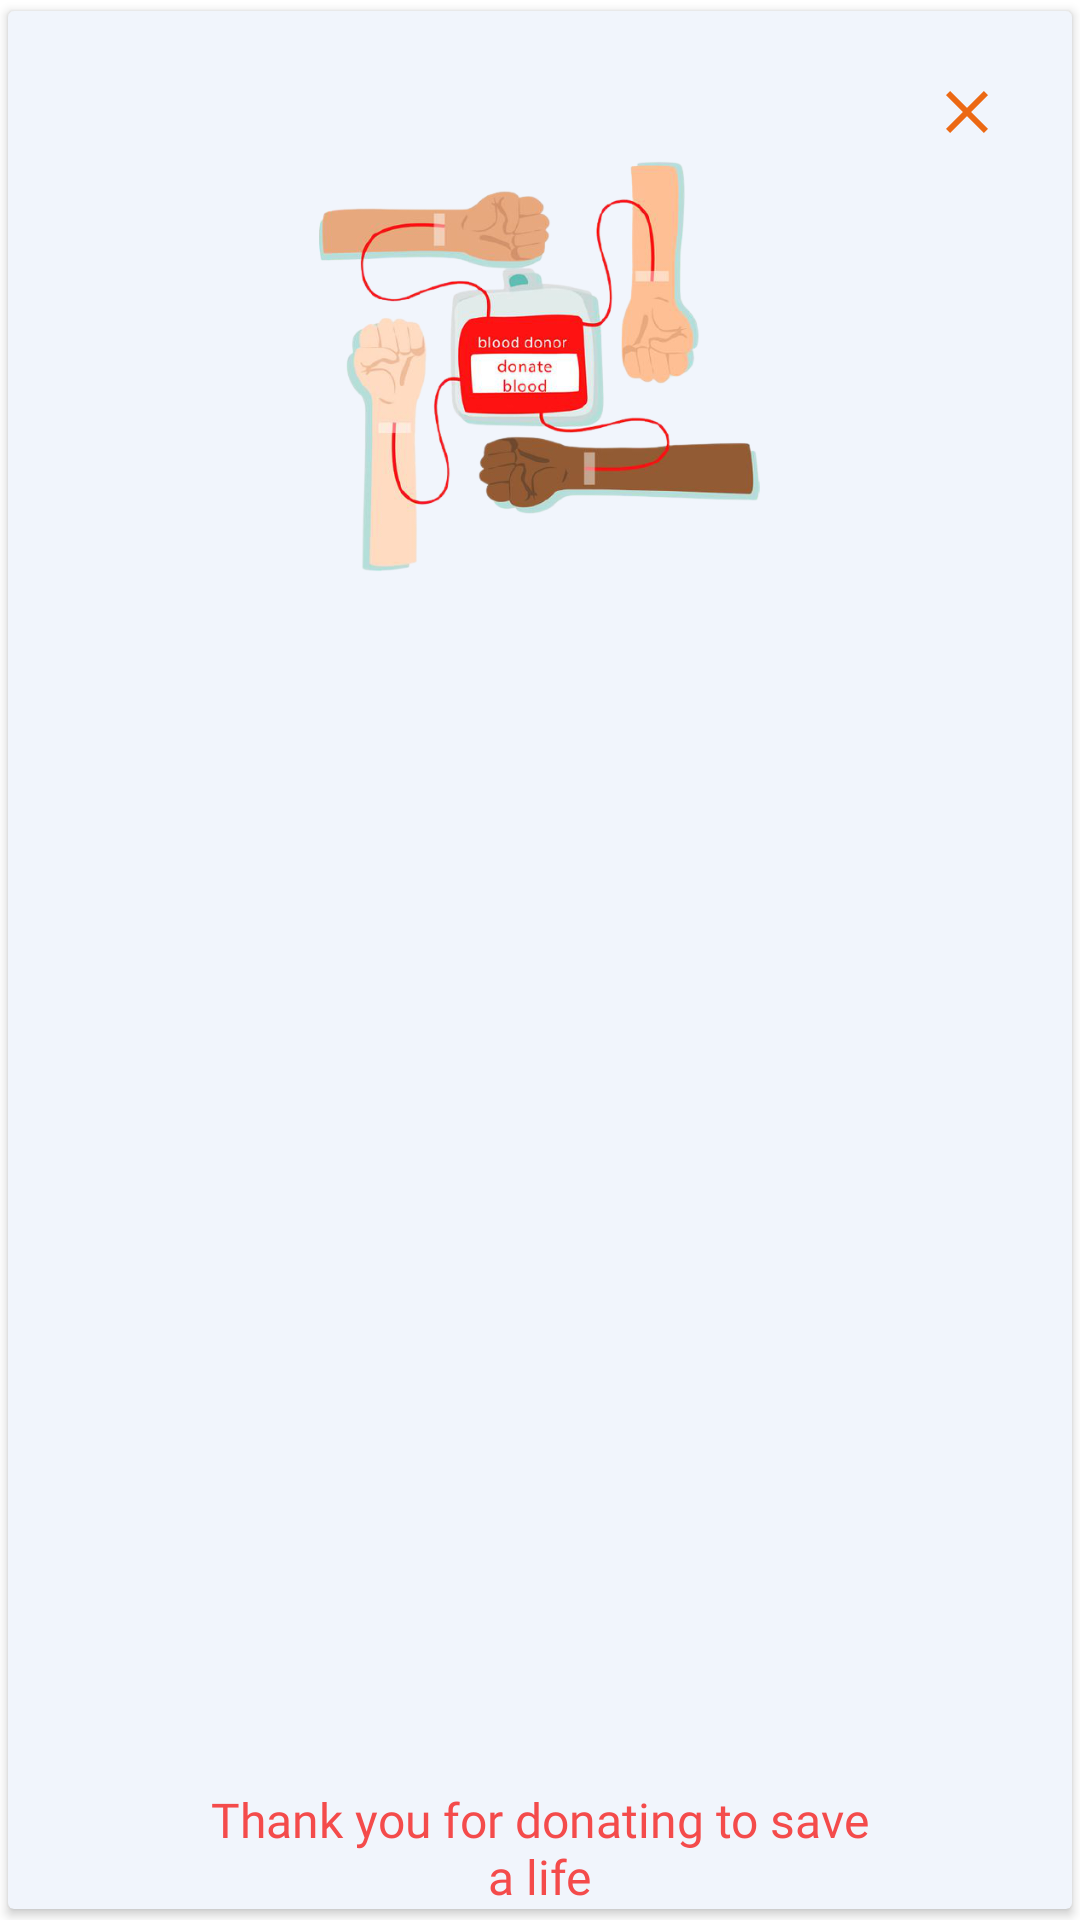

Screen size 1080*1920. Icon name, then its center in pixels as [x,y]:
close: [967,112]
